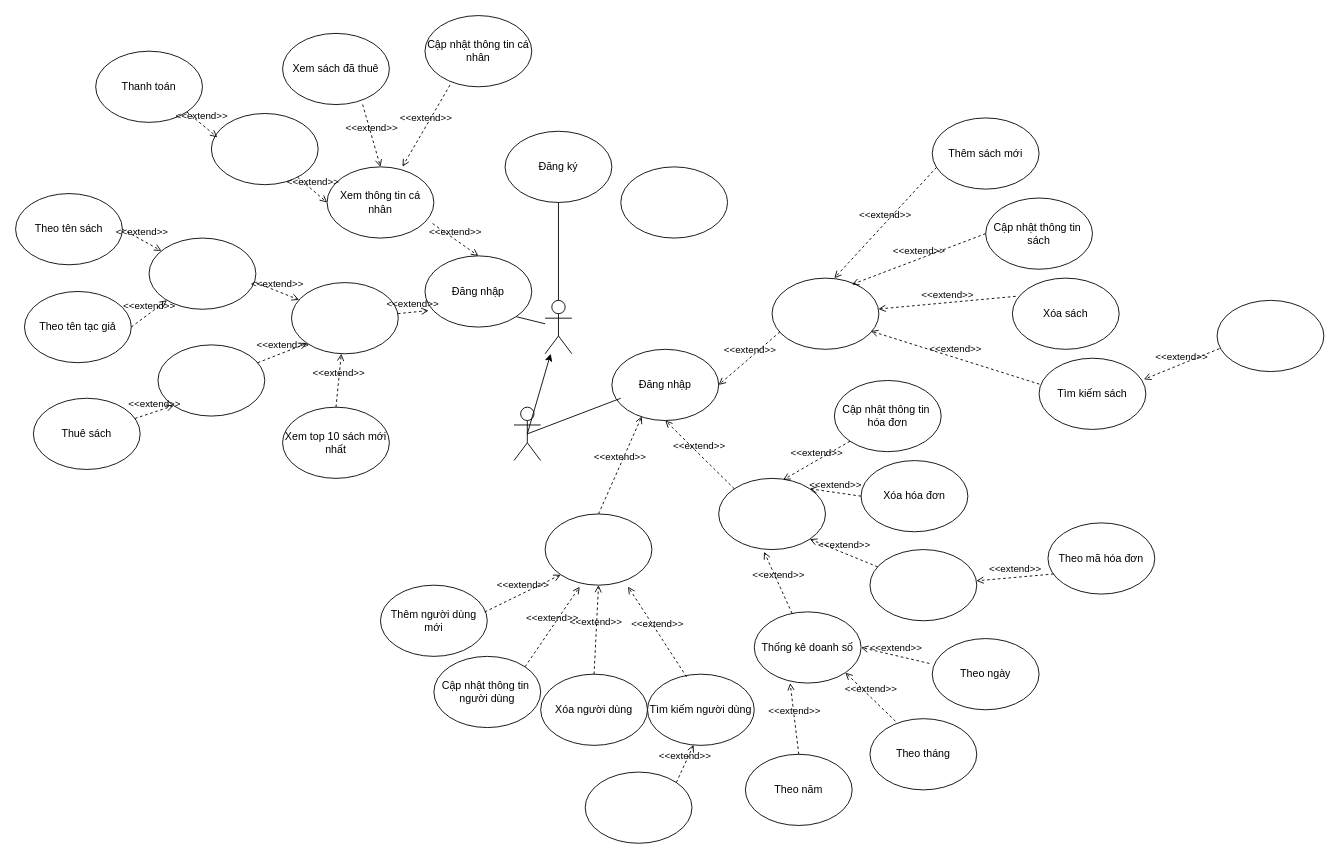
The diagram is 1339 pixels wide and 859 high, and some of its shapes have lost their labels. Each missing label, with the centre of its shape:
"Admin" goes at point 527,433.
"Quản lý hóa đơn" goes at point 771,513.
"Quản lý sách" goes at point 825,313.
"Quản lý tài khoản" goes at point 598,549.
"Theo id" goes at point 638,807.
"Theo mã sách" goes at point 1270,335.
"Tìm kiếm hóa đơn" goes at point 923,585.
"Tìm sách" goes at point 202,273.
"User" goes at point 558,326.
"Xem chi tiết sách" goes at point 211,380.
"Xem sách" goes at point 344,318.
"Xem sách chưa thanh toán" goes at point 264,149.
"Đăng xuất" goes at point 674,202.
